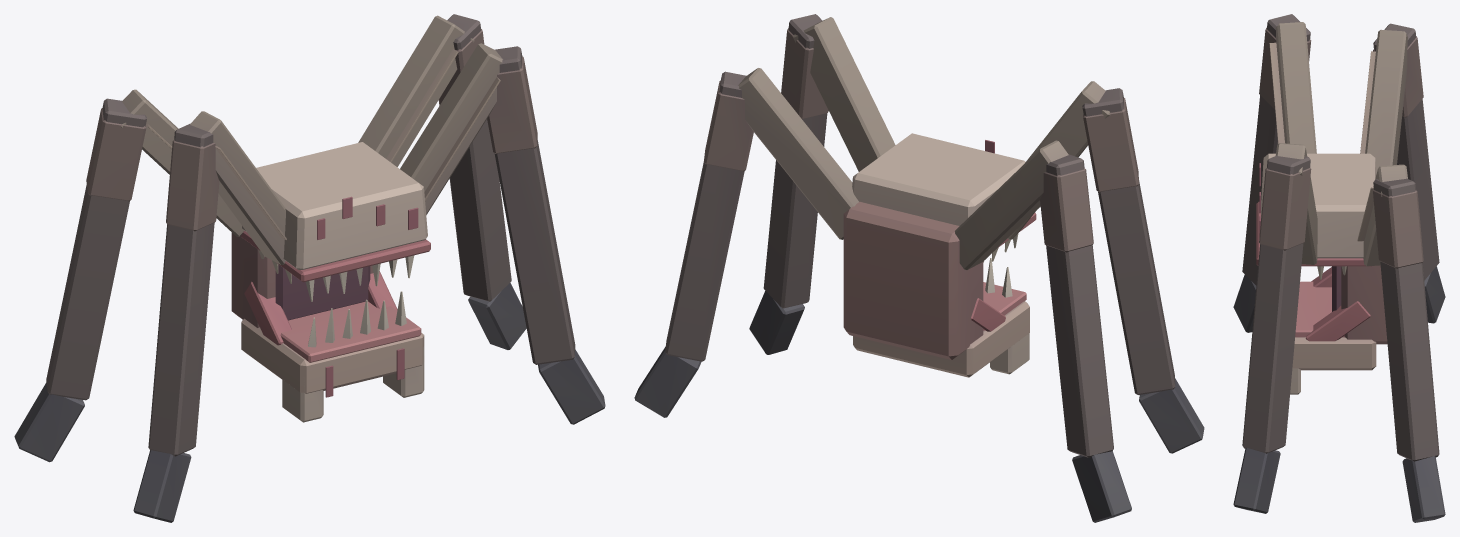
The model's file is PrimitiveSummoner.glb.
3 views of the same model, side by side, from view 1: azimuth 30°, elevation 25°; view 2: azimuth 150°, elevation 25°; view 3: azimuth 270°, elevation 25° (orthographic). The views are drawn at different scales.
Parts seen in each view (by area): view 1: ArmR, ArmL, Body, LegR, LegL, Head; view 2: Body, LegR, LegL, ArmR, ArmL, Head; view 3: ArmL, LegL, LegR, Body, ArmR, Head.
Part boxes in pixels (x1,y1,x2,y2): ArmR: [133, 111, 286, 522]; ArmL: [400, 43, 605, 424]; Body: [231, 142, 430, 327]; LegR: [14, 89, 244, 462]; LegL: [358, 14, 526, 349]; Head: [241, 271, 424, 422]; Body: [843, 133, 1036, 359]; LegR: [955, 140, 1131, 522]; LegL: [634, 68, 858, 417]; ArmR: [1007, 81, 1204, 453]; ArmL: [749, 14, 895, 354]; Head: [853, 258, 1029, 377]; ArmL: [1233, 143, 1317, 513]; LegL: [1357, 164, 1445, 522]; LegR: [1360, 23, 1445, 323]; Body: [1256, 153, 1387, 344]; ArmR: [1233, 14, 1316, 332]; Head: [1290, 267, 1376, 394].
Size of the model in its own units: 10.01 by 6.99 by 3.98.
